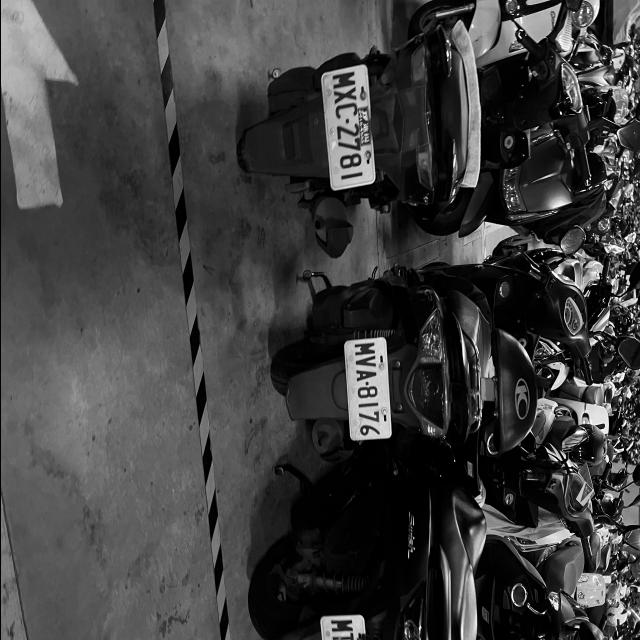-: (345, 118, 349, 126), (363, 382, 369, 386)
1: (340, 171, 362, 181), (357, 401, 378, 409)
2: (336, 123, 359, 139)
6: (358, 425, 380, 437)
7: (338, 138, 360, 152), (358, 410, 380, 422)
8: (338, 153, 362, 169), (356, 386, 378, 400)
A: (356, 369, 376, 382)
C: (333, 102, 358, 120)
M: (330, 71, 356, 91), (330, 620, 352, 632), (354, 342, 376, 354)
V: (355, 356, 375, 368)
X: (332, 85, 356, 104)
plate: (349, 339, 385, 439)
